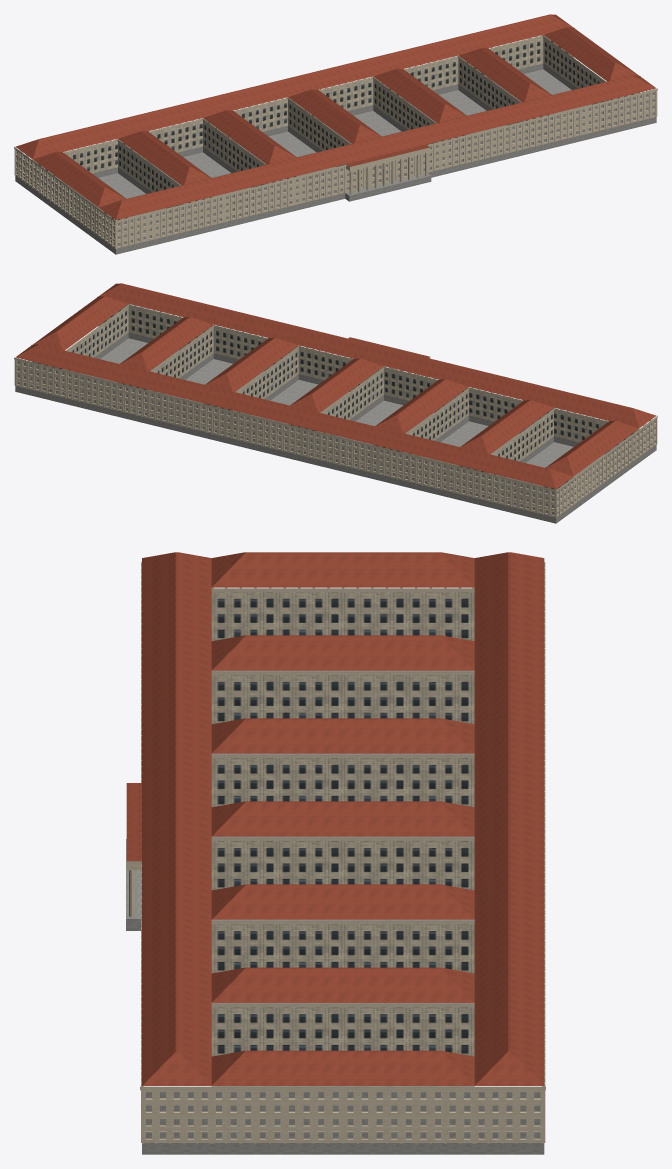
Rendered from commerce_hchb.glb.
3 views of the same model, one above another, from view 1: azimuth 30°, elevation 25°; view 2: azimuth 150°, elevation 25°; view 3: azimuth 270°, elevation 25° (orthographic). The views are drawn at different scales.
Visible parts, largest first — view 1: commerce_hchb; view 2: commerce_hchb; view 3: commerce_hchb.
Part boxes in pixels (box(x1,y1,x2,y2)): commerce_hchb: box(14, 14, 657, 254); commerce_hchb: box(14, 283, 657, 523); commerce_hchb: box(126, 552, 545, 1154).
Bounding box in the file's own units: 324 × 25.39 × 109.
4 materials, 4 textured.
